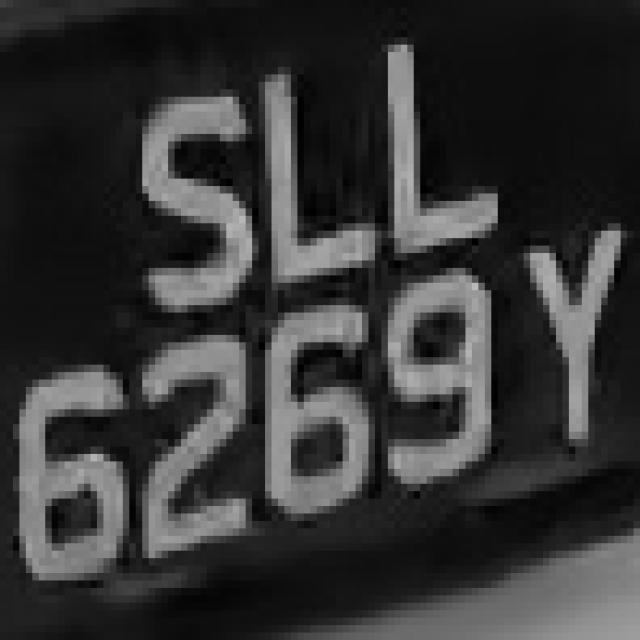2: (123, 320, 278, 573)
6: (13, 342, 142, 596), (258, 283, 388, 521)
9: (375, 246, 517, 514)
L: (356, 30, 524, 260), (240, 37, 382, 290)
S: (122, 75, 245, 312)
Y: (485, 223, 633, 469)
